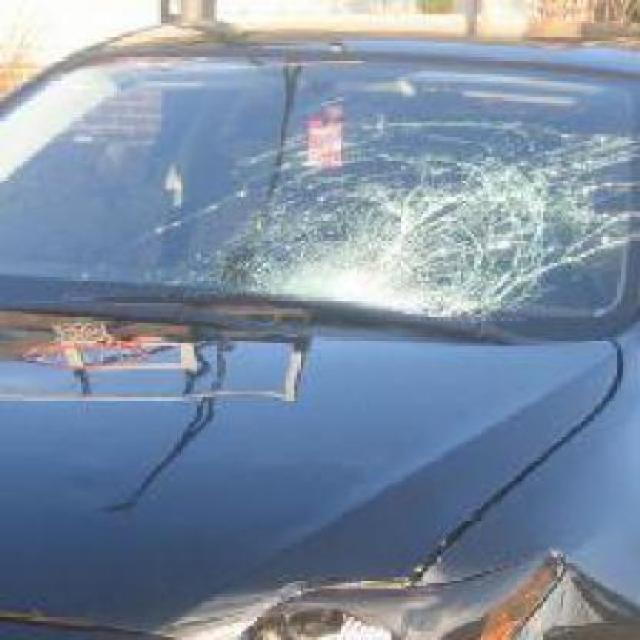damaged-windscreen: (0, 46, 637, 334)
